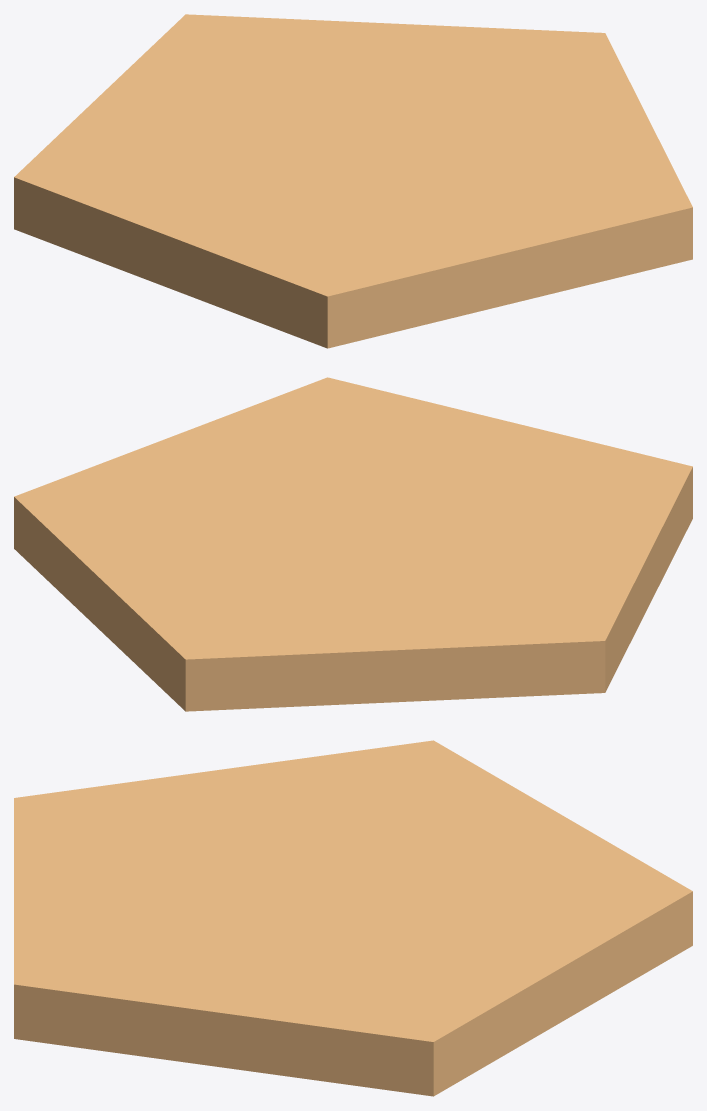
Rendered from fiore_step2.glb.
The picture shows the model from 3 angles, top to bottom: view 1: azimuth 30°, elevation 25°; view 2: azimuth 150°, elevation 25°; view 3: azimuth 270°, elevation 25°; orthographic projection. The views are drawn at different scales.
Visible parts, largest first — view 1: pentagono; view 2: pentagono; view 3: pentagono.
Boxes of the visible parts, x1,y1,x2,y2 form: pentagono: (14,14,692,348); pentagono: (14,377,692,711); pentagono: (14,740,692,1096).
Size of the model in its own units: 0.9511 by 0.08 by 0.9045.
